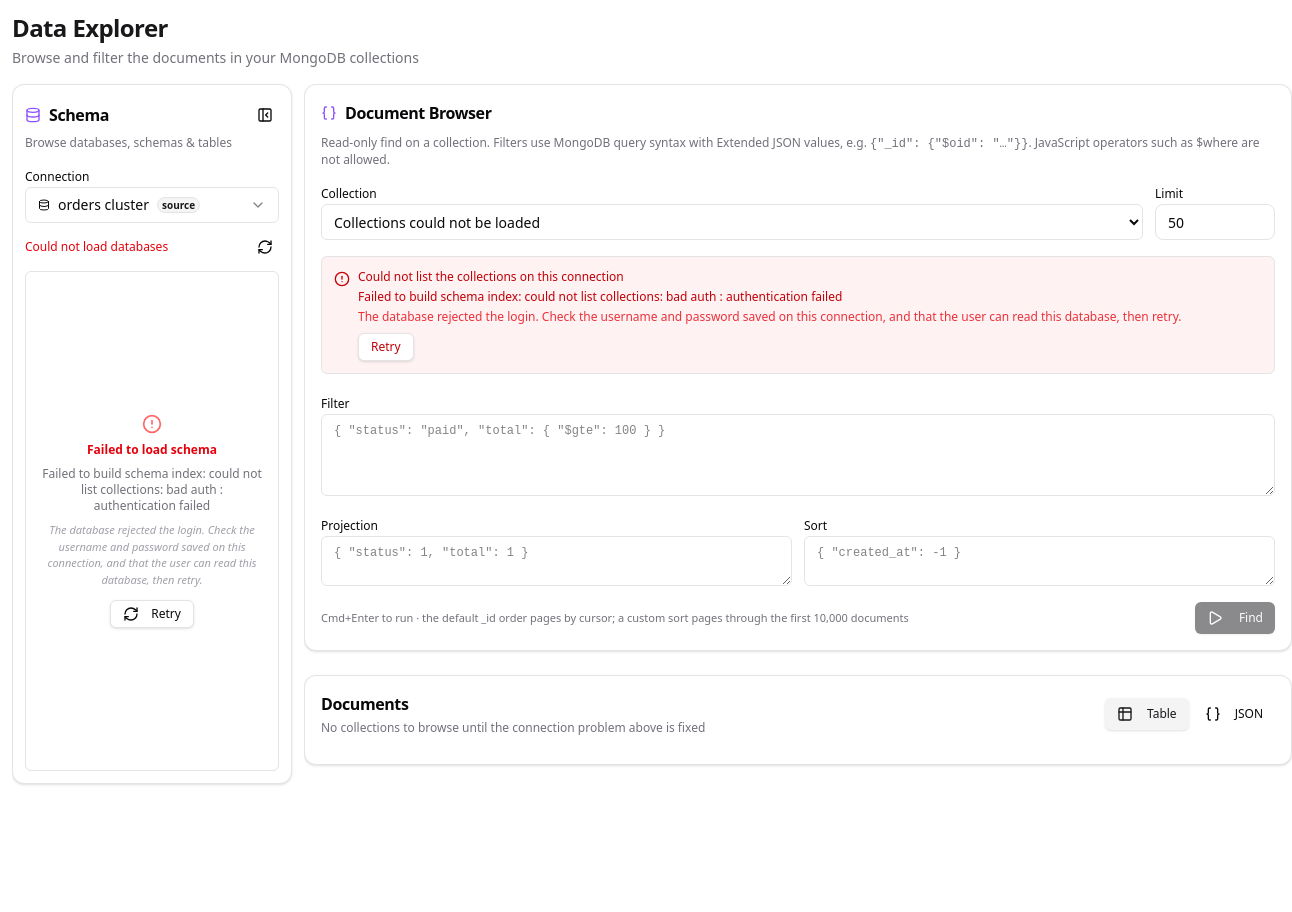
Test: Explorer header for a document connection › Retry loads the collections again and drops the failure
Check: the label with test id "schema-count-label" reads "Could not load databases", box [25,238,168,255]
Click the button "Retry" below "Document Browser".
click(386, 347)  # box [358,333,414,361]
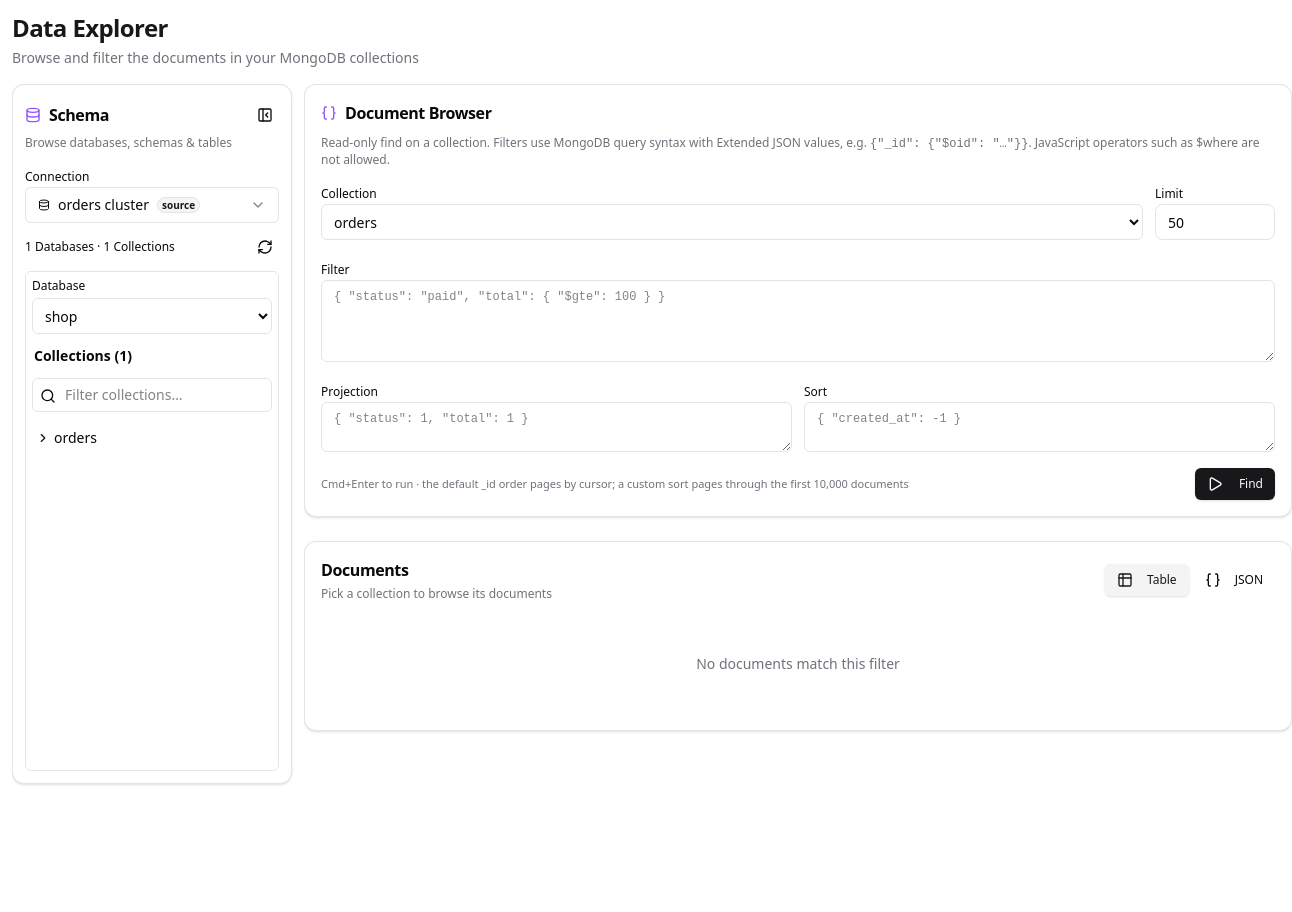
Check: the label with test id "schema-count-label" reads "1 databases · 1 collections", box [25,239,175,255]
Check: the label with test id "schema-count-label" no longer shows "Could not load", box [25,239,175,255]
Check: the message with test id "doc-collections-error" is gone
